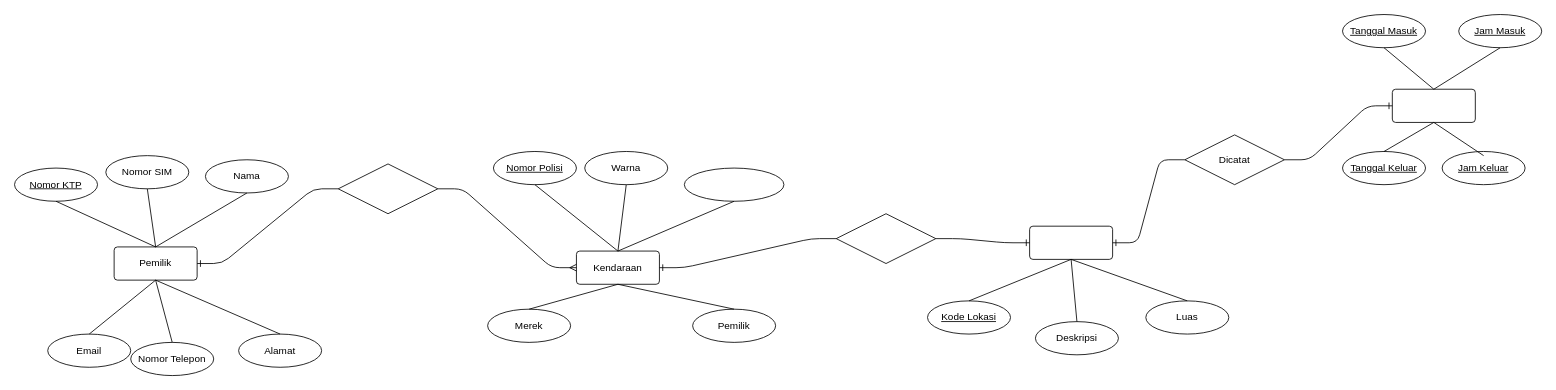
The diagram is 1556 pixels wide and 390 high, and some of its shapes have lost their labels. Each missing label, with the centre of its shape:
"Diparkir" belongs at point (885, 238).
"Lokasi Parkir" belongs at point (1071, 242).
"Memiliki" belongs at point (387, 188).
"Parkir" belongs at point (1433, 105).
"Tanggal Mulai Didaftarkan" belongs at point (734, 184).
